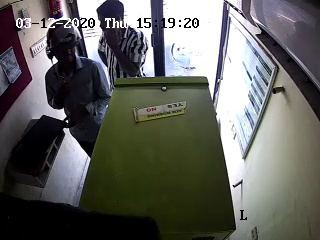helmet: (45, 22, 87, 78)
